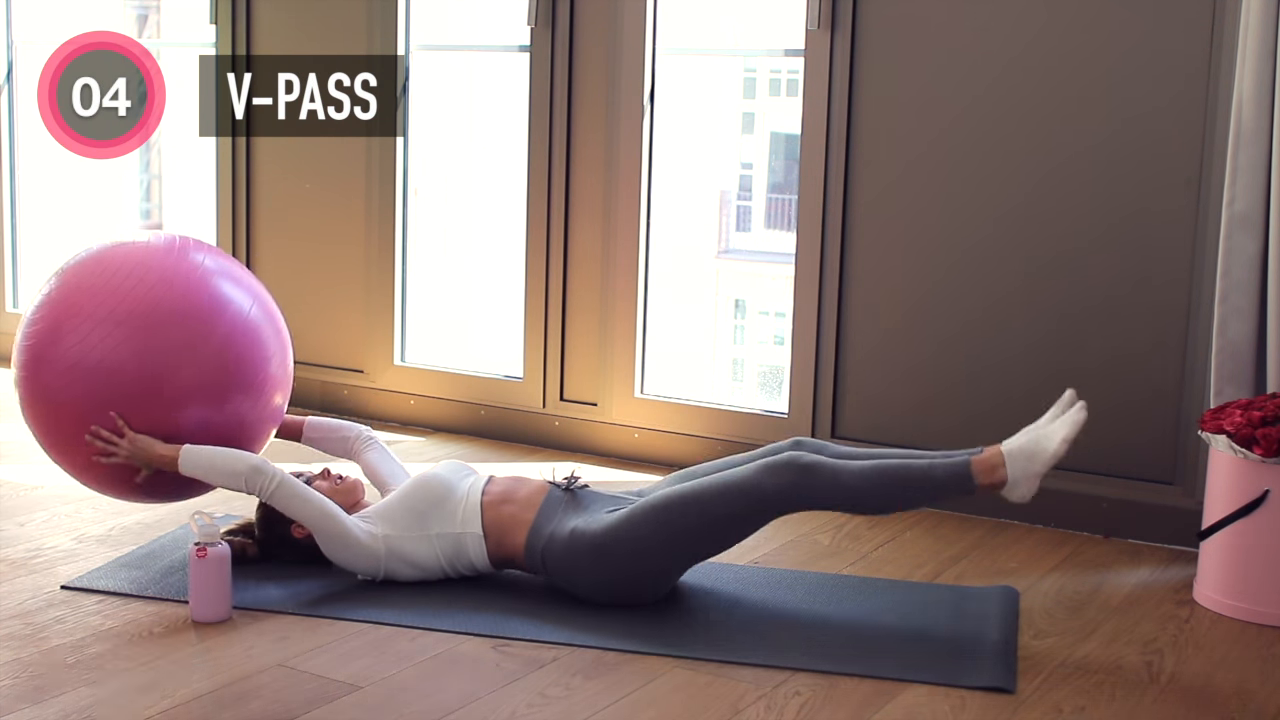yogaball: (7, 232, 302, 510)
